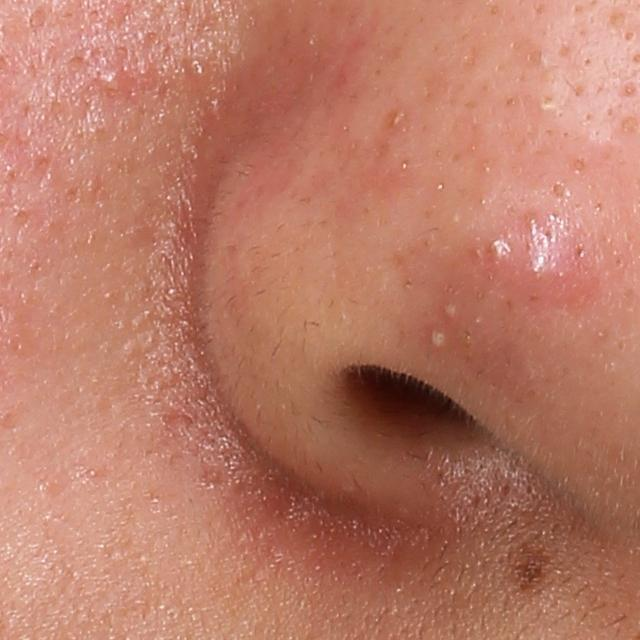comedo: (548, 179, 574, 204), (536, 93, 556, 112), (618, 26, 639, 43)
nevus: (507, 525, 552, 604)
papule: (515, 244, 562, 291), (100, 61, 128, 93)
pustule: (482, 233, 515, 264), (425, 324, 450, 351), (440, 301, 457, 318)
